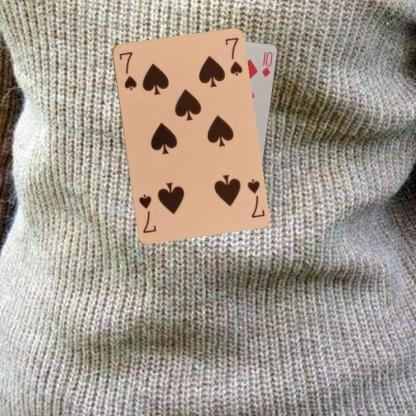7s: (116, 49, 138, 92), (244, 176, 266, 219)
